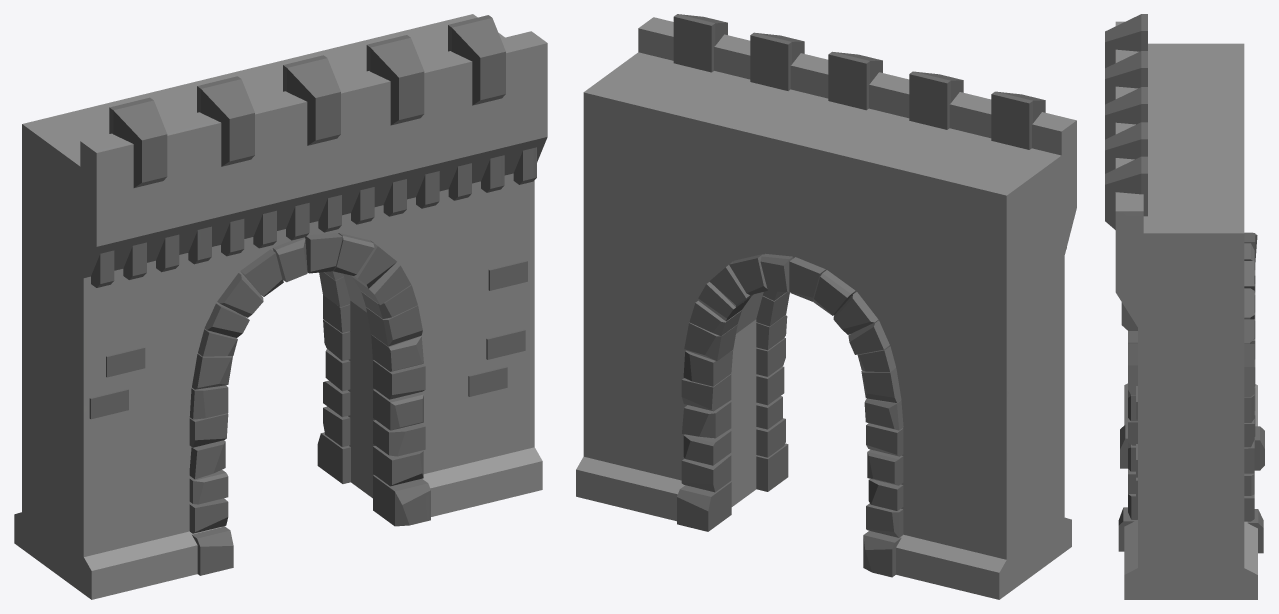
The model's file is kit-castle-gate.glb.
3 renders of one model, left to right at view 1: azimuth 30°, elevation 25°; view 2: azimuth 150°, elevation 25°; view 3: azimuth 270°, elevation 25°, orthographic. The views are drawn at different scales.
Parts seen in each view (by area): view 1: Cube.191; view 2: Cube.191; view 3: Cube.191.
Boxes of the visible parts, <box> form: Cube.191: <box>14,14,547,599</box>; Cube.191: <box>576,14,1076,599</box>; Cube.191: <box>1105,14,1264,599</box>.
Size of the model in its own units: 7.16 by 7.2 by 2.55.
1 material, 1 textured.
